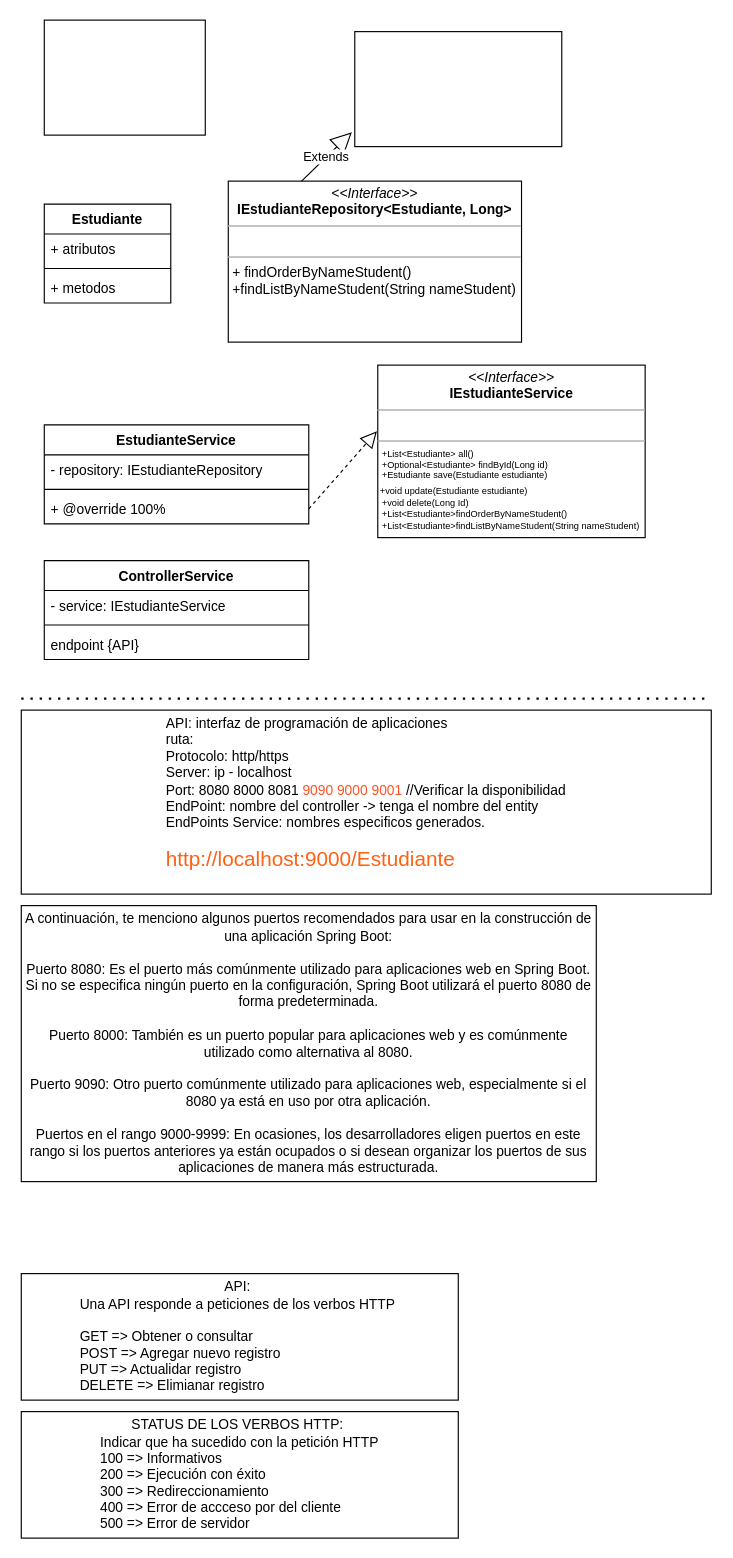
Some shapes in this 733 by 1558 pixel diagram are drawn without their labels. The shapes that lost their labels are listed below. From the top down, each one's centre as x and y in pixels, then its label:
[124,77]: 1. Entity 2. Repository 3. IService 4. Service 5. Controller Proyectado DTO
[458,88]: <<Interface>> JpaRepository + + method
